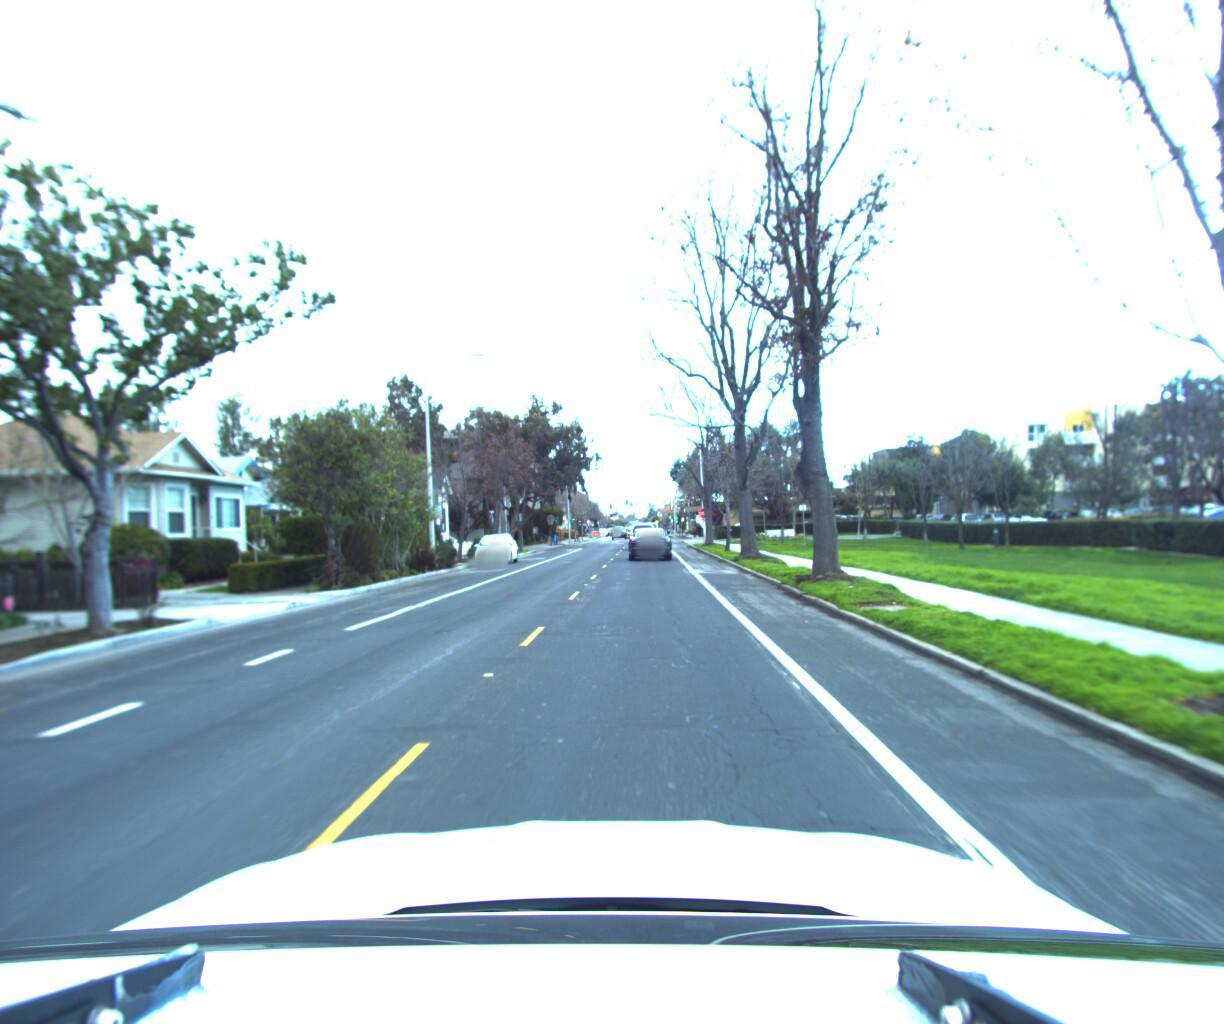car: (471, 532, 521, 568), (624, 520, 669, 559), (624, 514, 661, 551)
